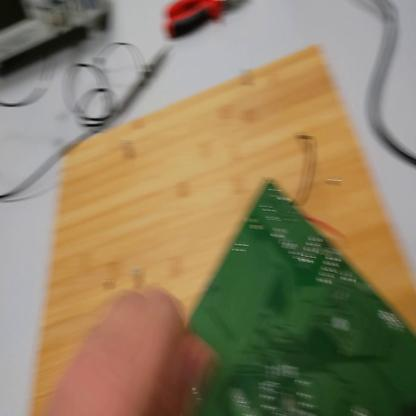hand: (52, 283, 215, 415)
low voltage board: (182, 133, 416, 416)
oscilloscope: (1, 2, 110, 73)
oscilloscope probe tip: (95, 46, 175, 132)
pliers: (161, 1, 246, 39)
working area: (31, 42, 416, 414)
